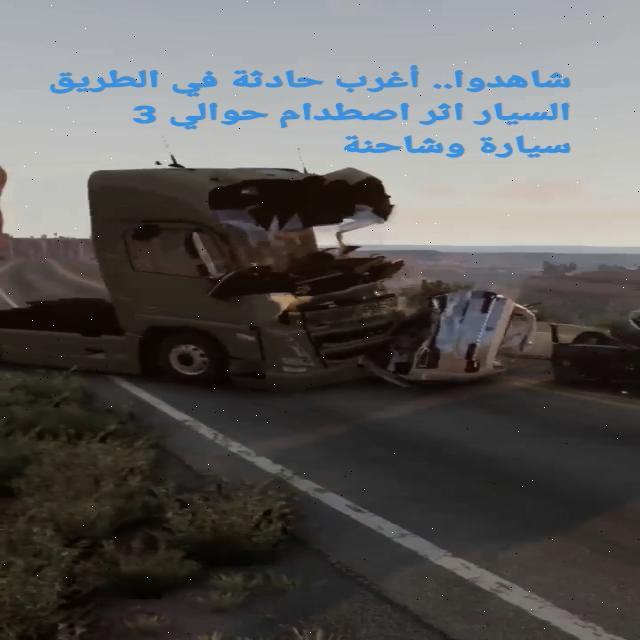accident: (68, 157, 525, 401)
